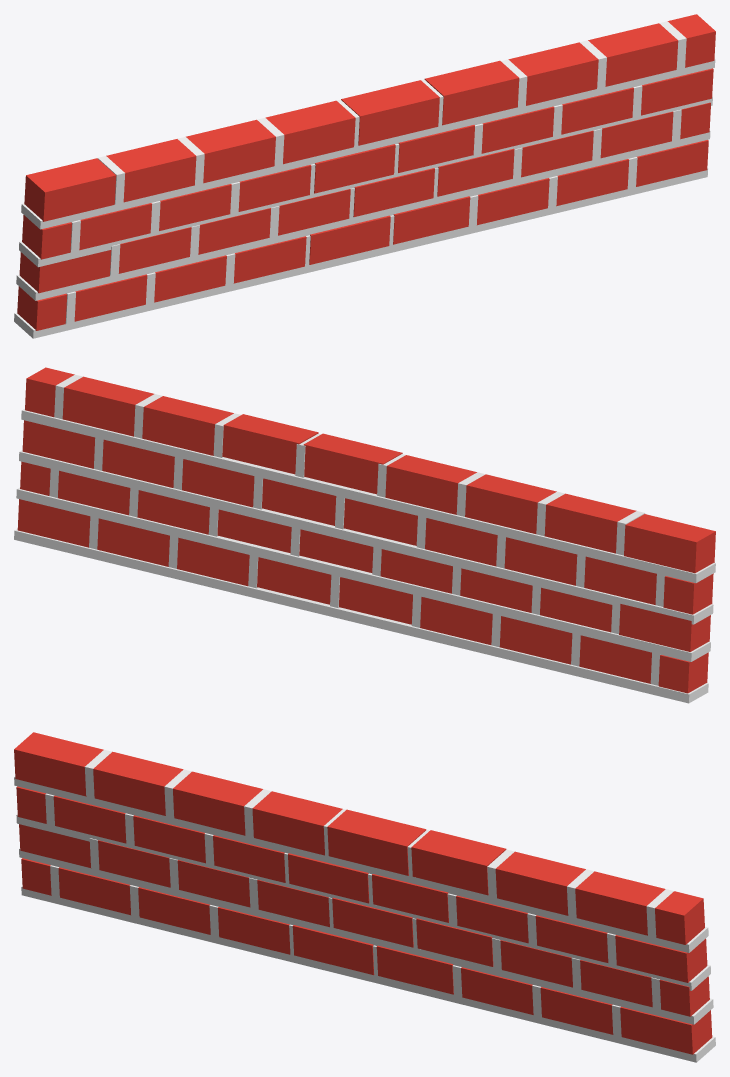
3 renders of one model, top to bottom at view 1: azimuth 30°, elevation 25°; view 2: azimuth 150°, elevation 25°; view 3: azimuth 330°, elevation 25°, orthographic.
Visible parts, largest first — view 1: group_1872417371; view 2: group_1872417371; view 3: group_1872417371.
Part boxes in pixels (left/top/right/bottom): group_1872417371: left=14, top=14, right=715, bottom=338; group_1872417371: left=14, top=367, right=715, bottom=703; group_1872417371: left=14, top=732, right=715, bottom=1062.
Size of the model in its own units: 161 by 36.21 by 12.66.
